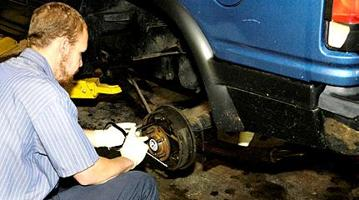person: (2, 3, 160, 200)
